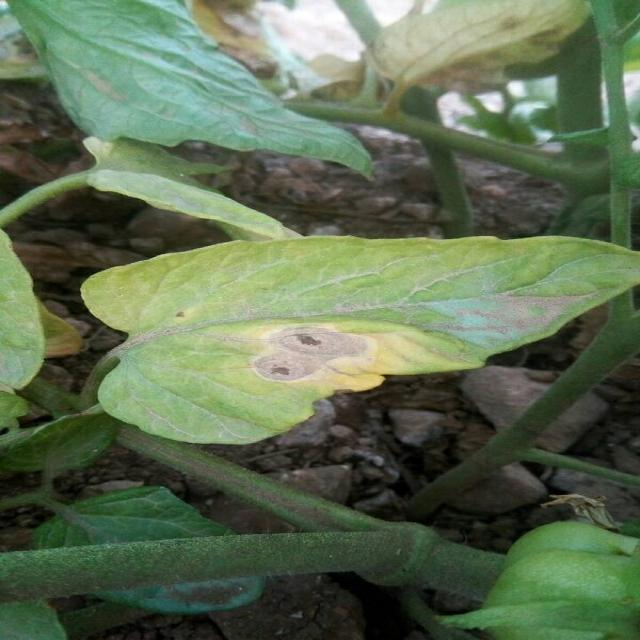Tomato Early blight leaf: (82, 232, 640, 445)
